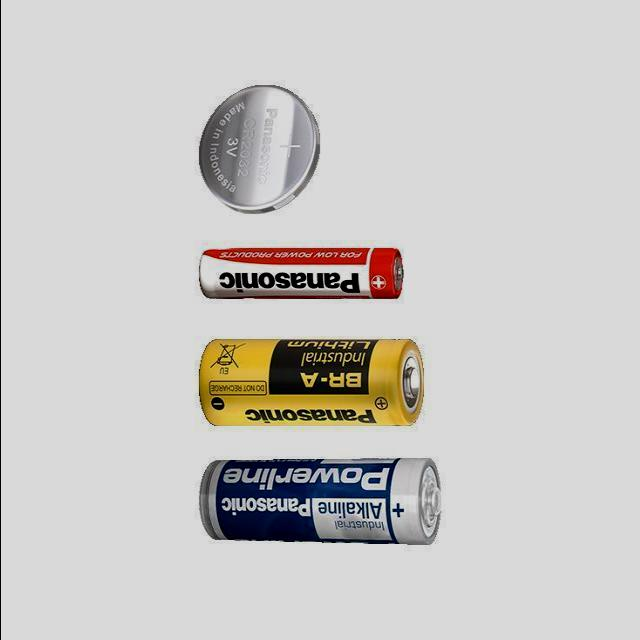AA: (194, 455, 445, 550)
AAA: (195, 245, 405, 303)
COIN: (195, 82, 323, 217)
